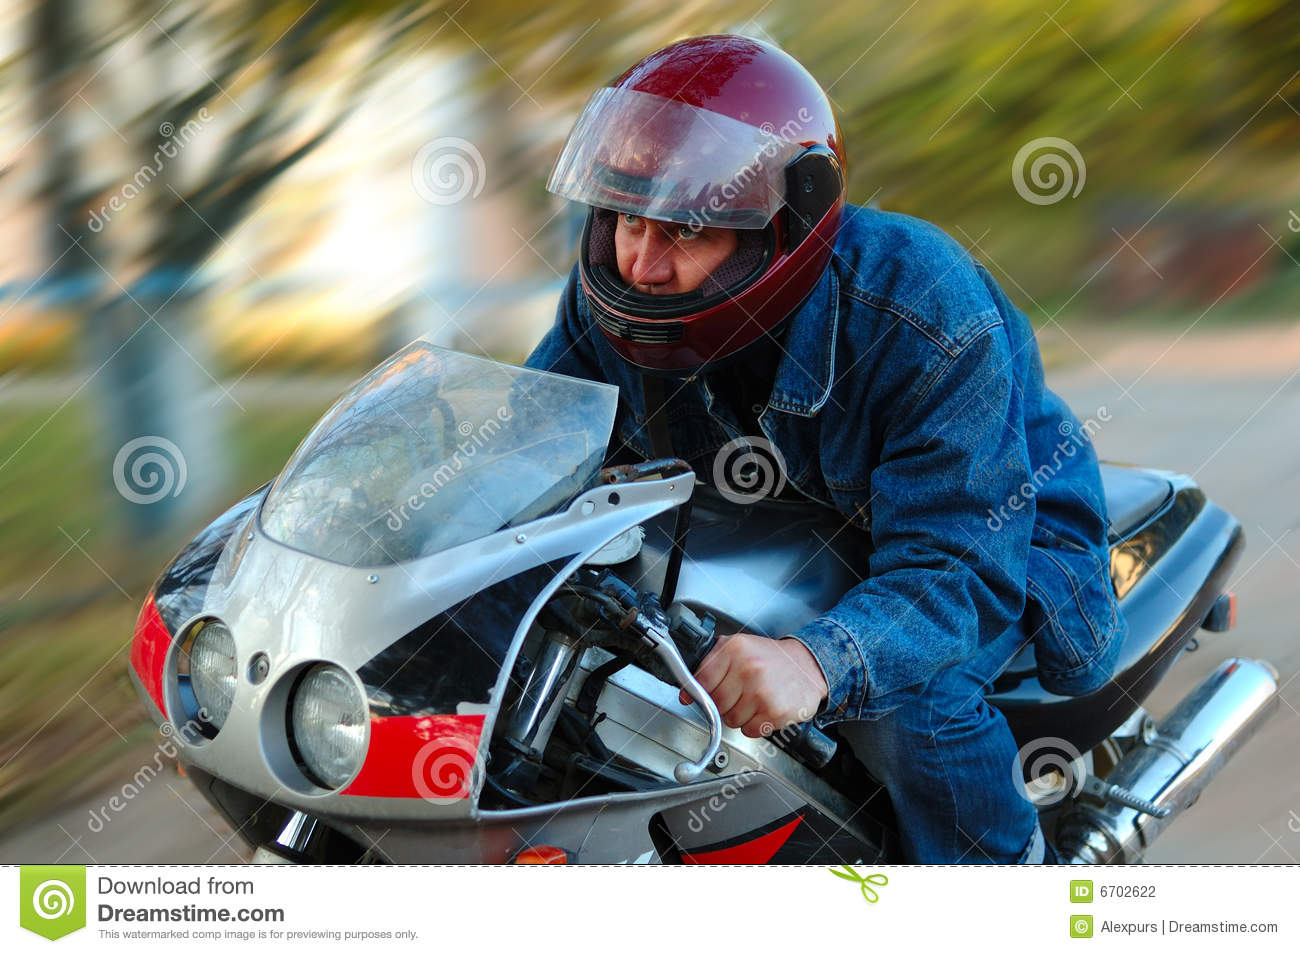helmet: (567, 21, 849, 344)
